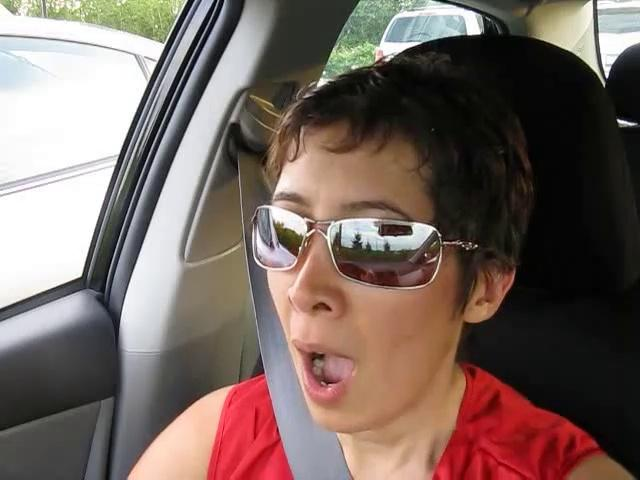yawn: (275, 336, 377, 409)
